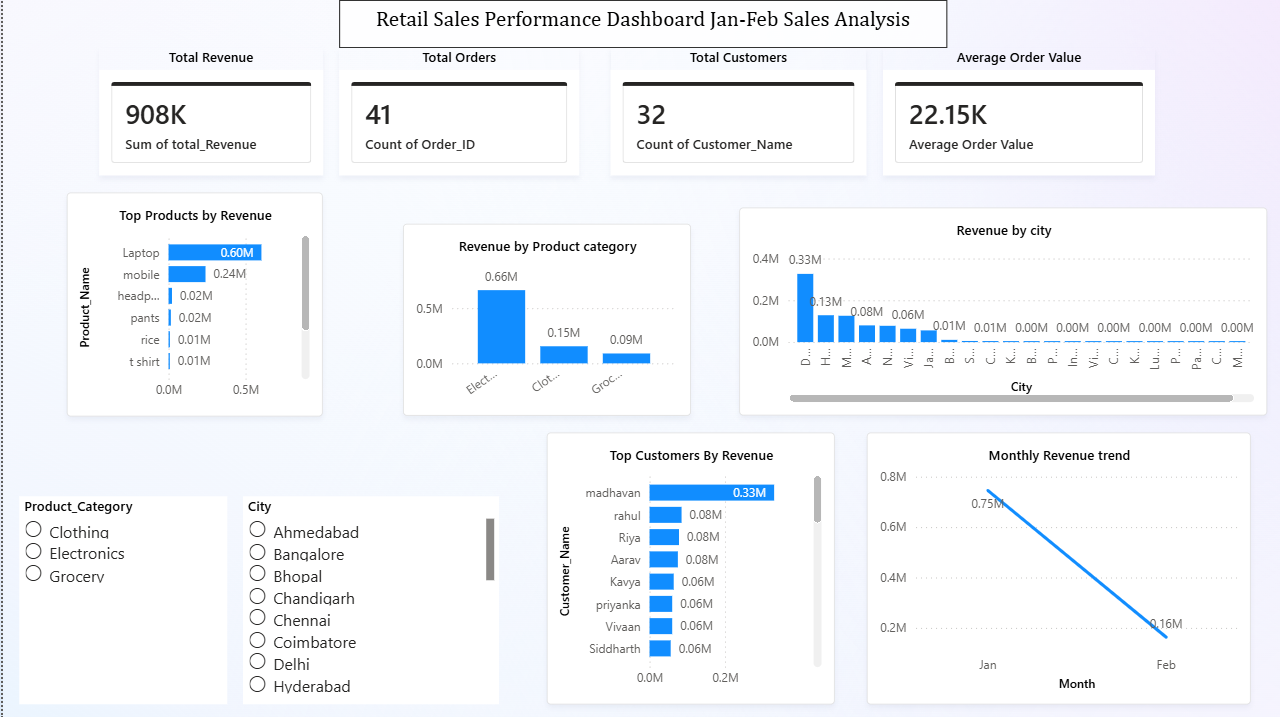

What the dashboard file says about the page in this screenshot:
{"tool":"powerbi","page":{"name":"Page 1","canvas":[1280,720],"ordinal":0},"visuals":[{"type":"cardVisual","title":"Total Revenue","fields":{"Data":["Sum(Table 1 (Dataset).total_Revenue)"]},"box":[96,48,224,128],"z":0},{"type":"cardVisual","title":"Total Orders","fields":{"Data":["CountNonNull(Table 1 (Dataset).Order_ID)"]},"box":[336,48,240,128],"z":1000},{"type":"cardVisual","title":"Total Customers","fields":{"Data":["Count(Table 1 (Dataset).Customer_Name)"]},"box":[608,48,256,128],"z":2000},{"type":"clusteredColumnChart","title":"Revenue by Product category","fields":{"Category":["Table 1 (Dataset).Product_Category"],"Y":["Sum(Table 1 (Dataset).total_Revenue)"]},"box":[400,224,288,192],"z":3000},{"type":"clusteredColumnChart","title":"Revenue by city","fields":{"Category":["Table 1 (Dataset).City"],"Y":["Sum(Table 1 (Dataset).total_Revenue)"]},"box":[736,208,528,208],"z":4000},{"type":"lineChart","title":"Monthly Revenue trend","fields":{"Category":["Table 1 (Dataset).Month"],"Y":["Sum(Table 1 (Dataset).total_Revenue)"]},"box":[864,432,384,272],"z":5000},{"type":"clusteredBarChart","title":"Top Products by Revenue","fields":{"Category":["Table 1 (Dataset).Product_Name"],"Y":["Sum(Table 1 (Dataset).total_Revenue)"]},"box":[64,192,256,224],"z":6000},{"type":"listSlicer","fields":{"Values":["Table 1 (Dataset).City"]},"box":[240,496,256,208],"z":6001},{"type":"listSlicer","fields":{"Values":["Table 1 (Dataset).Product_Category"]},"box":[16,496,208,208],"z":6002},{"type":"barChart","title":"Top Customers By Revenue","fields":{"Category":["Table 1 (Dataset).Customer_Name"],"Y":["Sum(Table 1 (Dataset).total_Revenue)"]},"box":[544,432,288,272],"z":6003},{"type":"cardVisual","title":"Average Order Value","fields":{"Data":["Table 1 (Dataset).Average Order Value"]},"box":[880,48,272,128],"z":6004},{"type":"textbox","box":[336,0,608,48],"z":6005}]}

Visuals, with their boxes in screenshot pixels (x1, y1, x2, y2), scaled from the page's 1280x720 canvas onto the 1280x717 screenshot:
"Total Revenue" cardVisual: 96:48:320:175
"Total Orders" cardVisual: 336:48:576:175
"Total Customers" cardVisual: 608:48:864:175
"Revenue by Product category" clusteredColumnChart: 400:223:688:414
"Revenue by city" clusteredColumnChart: 736:207:1264:414
"Monthly Revenue trend" lineChart: 864:430:1248:701
"Top Products by Revenue" clusteredBarChart: 64:191:320:414
listSlicer - Table 1 (Dataset).City: 240:494:496:701
listSlicer - Table 1 (Dataset).Product_Category: 16:494:224:701
"Top Customers By Revenue" barChart: 544:430:832:701
"Average Order Value" cardVisual: 880:48:1152:175
textbox: 336:0:944:48
